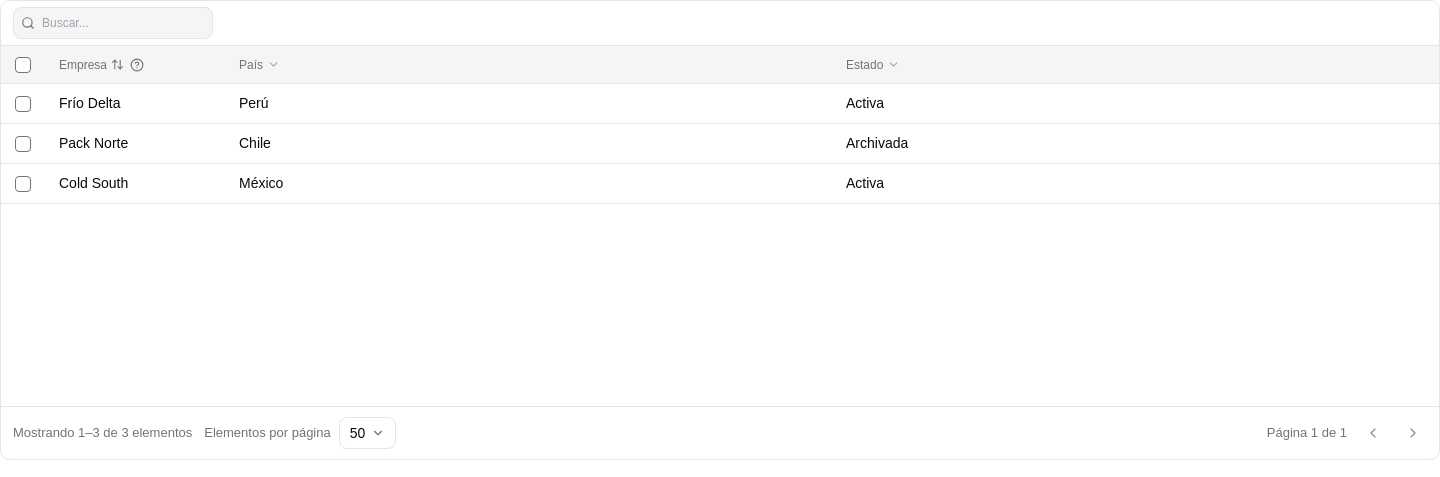
Test: a click on the ? opens the tooltip in the same render, outside any Radix wrapper
Click the button named "Ayuda sobre" at [137, 64], box [128,56,146,74]
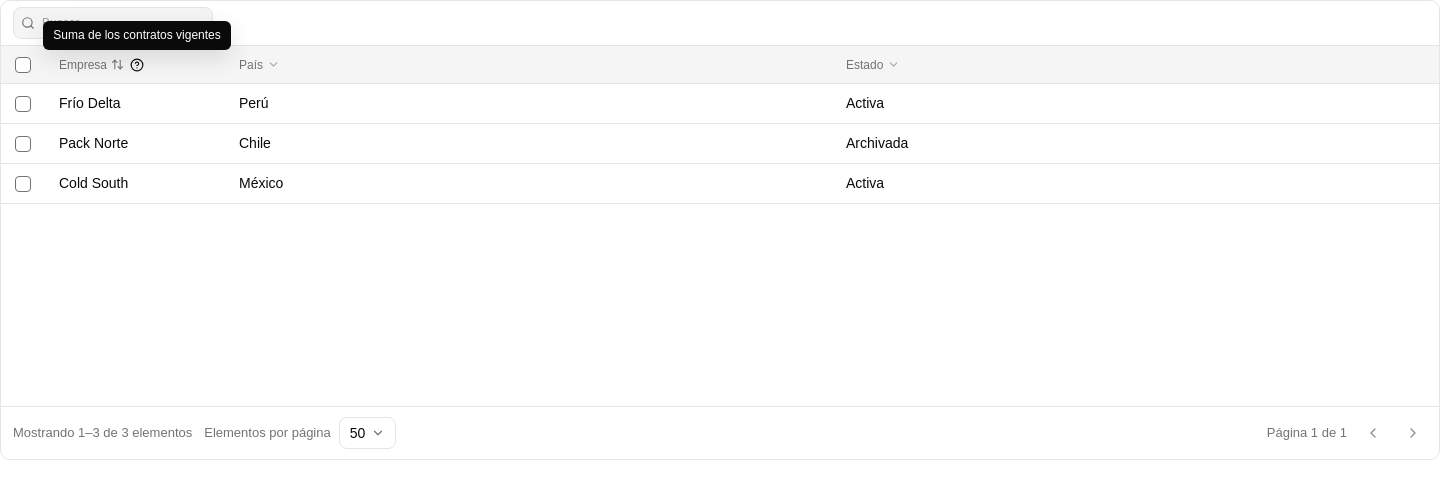
Expected: the tooltip reads "Suma de los contratos vigentes", [53,28,221,42]
